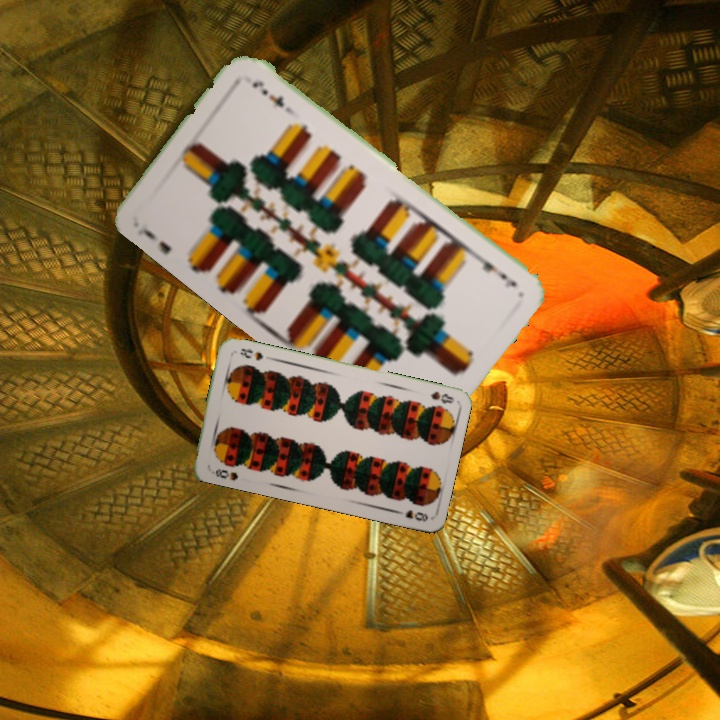E7: (475, 250, 519, 291), (135, 224, 174, 257)
S8: (208, 464, 241, 483), (426, 387, 457, 407)
